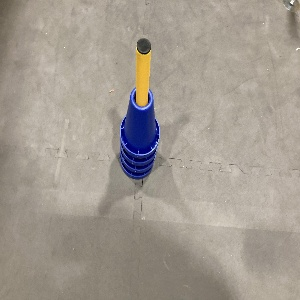Blue_4: (120, 88, 159, 176)
